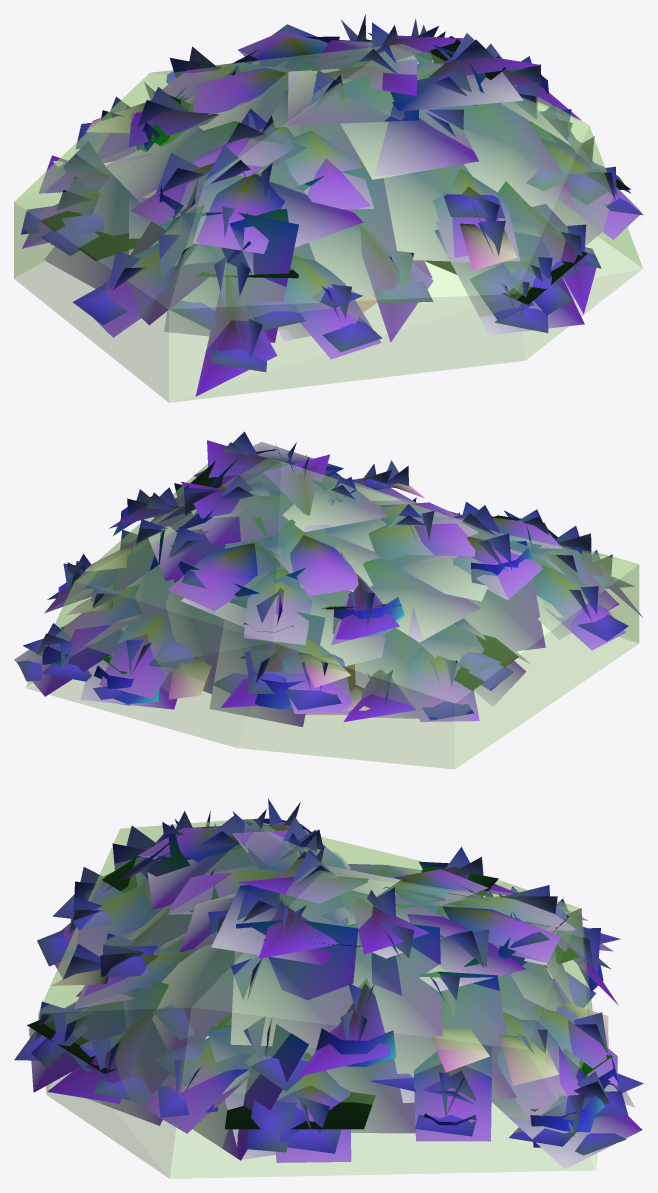
Rendered from tro_tree_1_bush_large.dae.
The picture shows the model from 3 angles, top to bottom: view 1: azimuth 30°, elevation 25°; view 2: azimuth 150°, elevation 25°; view 3: azimuth 270°, elevation 25°; orthographic projection. The views are drawn at different scales.
Parts seen in each view (by area): view 1: tree_oak_bush_a550, Colmesh-1, tree_oak_bush_a250; view 2: tree_oak_bush_a550, Colmesh-1, tree_oak_bush_a250; view 3: tree_oak_bush_a550, Colmesh-1, tree_oak_bush_a250.
Boxes of the visible parts, x1,y1,x2,y2 form: tree_oak_bush_a550: (21,14,643,396); Colmesh-1: (14,44,642,402); tree_oak_bush_a250: (23,33,611,357); tree_oak_bush_a550: (14,431,642,726); Colmesh-1: (26,459,639,768); tree_oak_bush_a250: (45,468,590,716); tree_oak_bush_a550: (14,798,643,1169); Colmesh-1: (38,819,596,1178); tree_oak_bush_a250: (67,825,616,1157).
Bounding box in the file's own units: 6.22 × 5.9 × 2.71.
